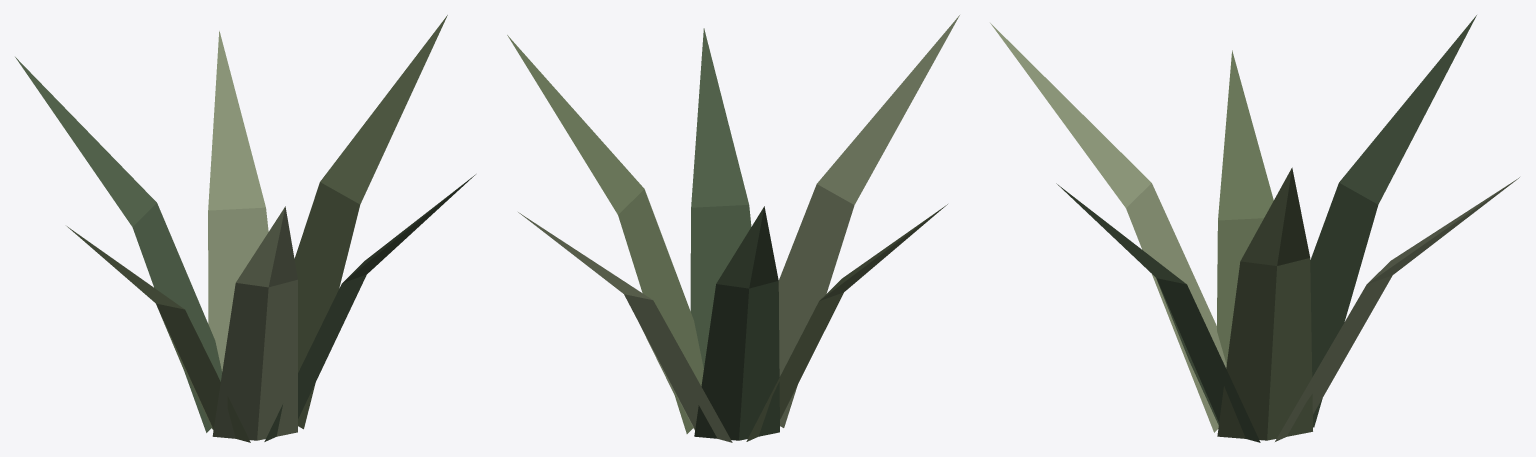
Rendered from Grass_Clump.fbx.
3 renders of one model, left to right at view 1: azimuth 30°, elevation 25°; view 2: azimuth 150°, elevation 25°; view 3: azimuth 270°, elevation 25°, orthographic. The views are drawn at different scales.
Visible parts, largest first — view 1: Grass_Clump; view 2: Grass_Clump; view 3: Grass_Clump.
Boxes of the visible parts, bbox=[...] form: Grass_Clump: bbox=[15, 15, 475, 442]; Grass_Clump: bbox=[507, 15, 959, 442]; Grass_Clump: bbox=[990, 15, 1519, 442].
Bounding box in the file's own units: 0.3872 × 0.31 × 0.4138.
